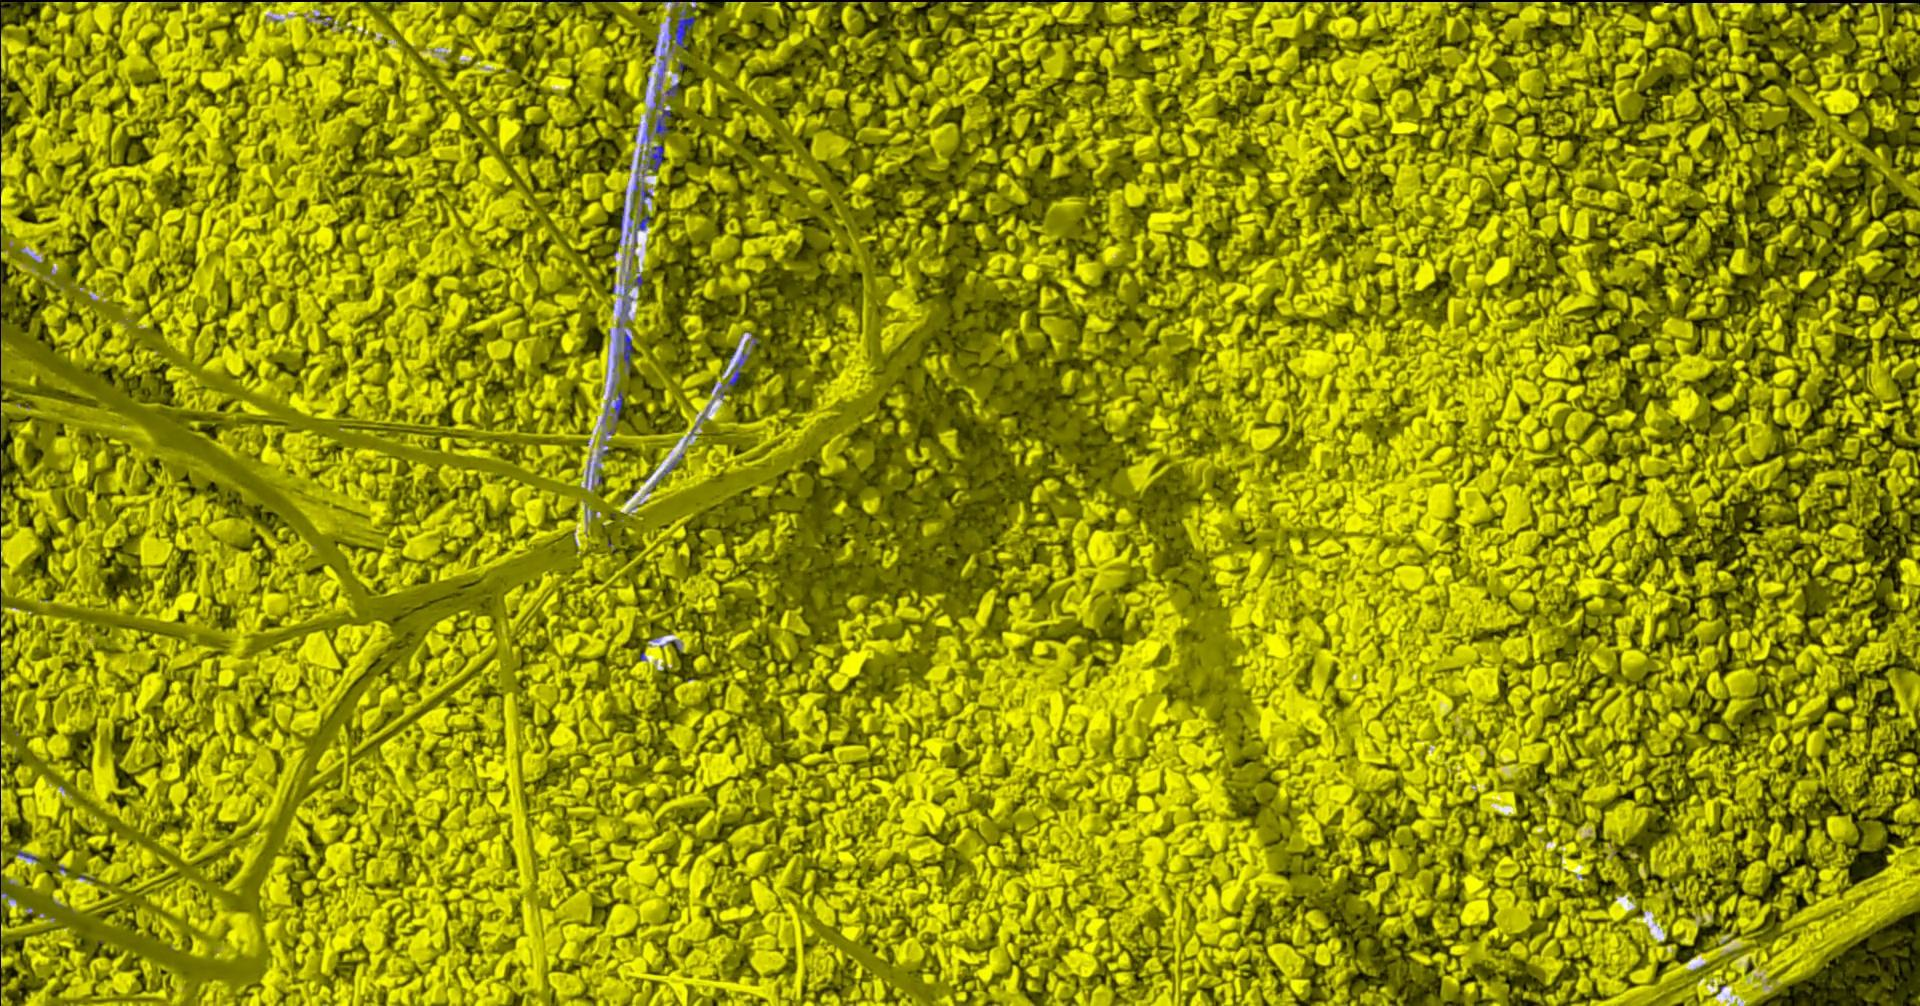ant: (721, 351, 750, 395), (670, 10, 696, 50), (635, 178, 651, 208), (636, 213, 651, 244), (649, 144, 665, 171), (623, 332, 634, 371), (657, 109, 672, 135), (616, 390, 625, 420)
